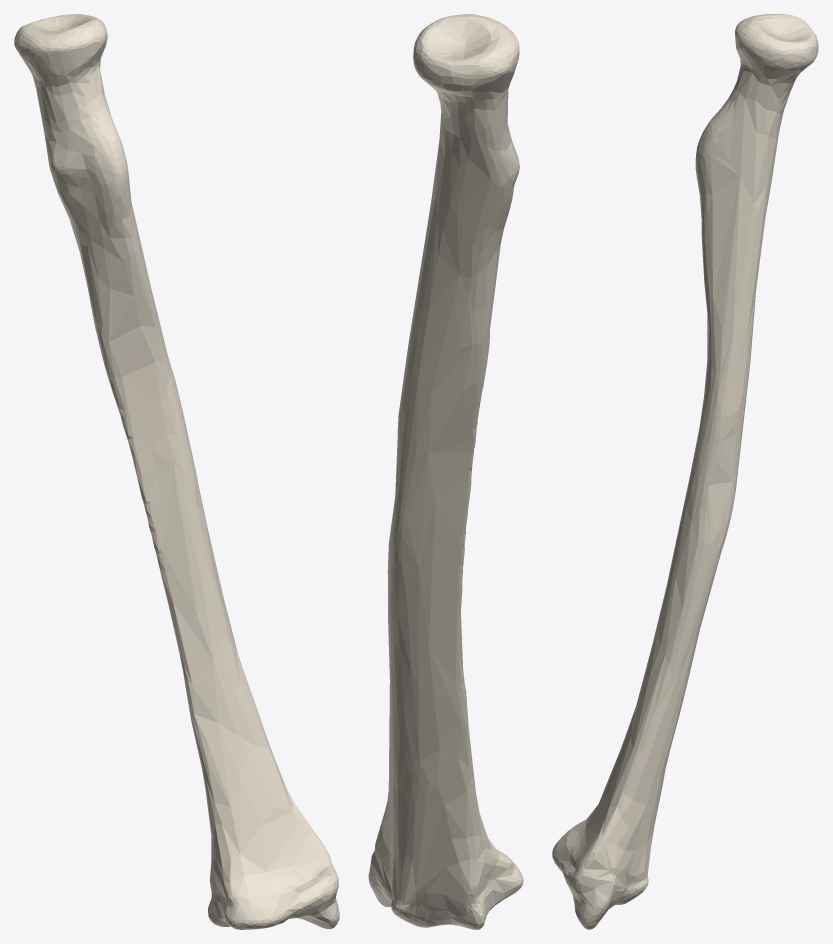
Rendered from left_radius.glb.
3 renders of one model, left to right at view 1: azimuth 30°, elevation 25°; view 2: azimuth 150°, elevation 25°; view 3: azimuth 270°, elevation 25°, orthographic. The views are drawn at different scales.
Parts seen in each view (by area): view 1: left_radius; view 2: left_radius; view 3: left_radius.
Boxes of the visible parts, left/top/right/bottom form: left_radius: left=14, top=14, right=339, bottom=929; left_radius: left=368, top=14, right=523, bottom=929; left_radius: left=552, top=14, right=818, bottom=929.
Size of the model in its own units: 0.0599 by 0.2293 by 0.0666.
